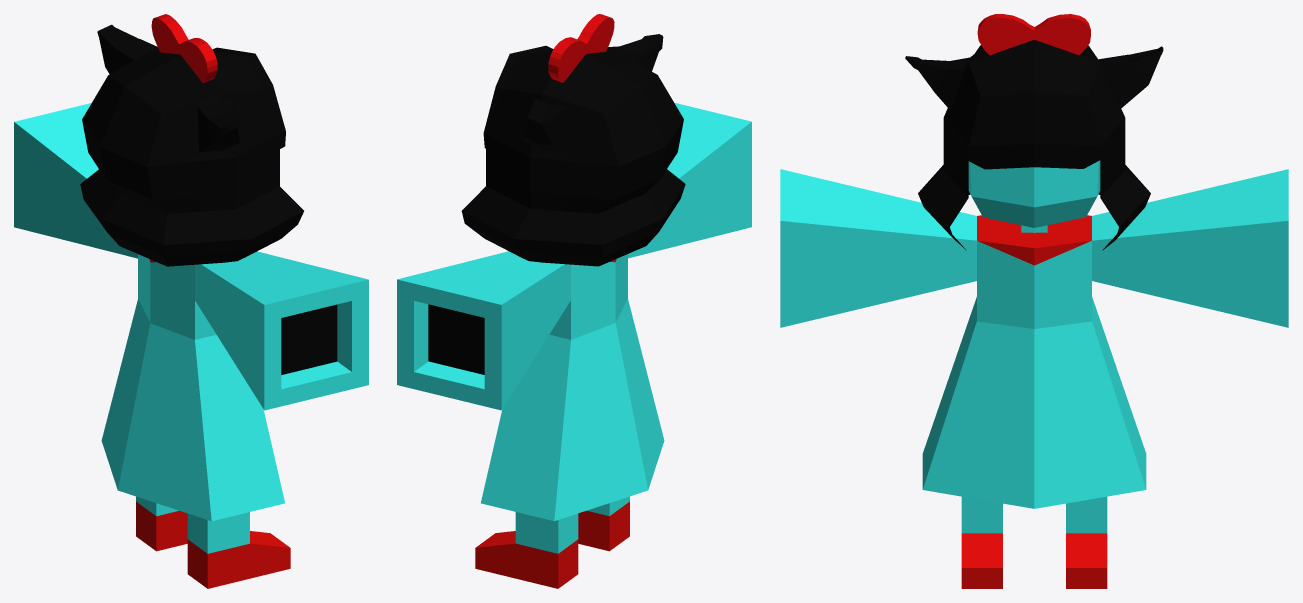
Rendered from Aqua.glb.
The picture shows the model from 3 angles, left to right: view 1: azimuth 30°, elevation 25°; view 2: azimuth 150°, elevation 25°; view 3: azimuth 270°, elevation 25°; orthographic projection.
Visible parts, largest first — view 1: Cube, Cube.003, Cube.001, Plane; view 2: Cube, Cube.003, Cube.001, Plane; view 3: Cube, Cube.003, Cube.001, Cube.002, Plane.
Part boxes in pixels (x1=…): Cube: x1=14, y1=103, x2=368, y2=521; Cube.003: x1=80, y1=24, x2=303, y2=266; Cube.001: x1=136, y1=496, x2=290, y2=588; Plane: x1=151, y1=14, x2=217, y2=83; Cube: x1=397, y1=102, x2=751, y2=521; Cube.003: x1=461, y1=34, x2=685, y2=266; Cube.001: x1=475, y1=496, x2=629, y2=588; Plane: x1=548, y1=14, x2=614, y2=82; Cube: x1=780, y1=169, x2=1288, y2=508; Cube.003: x1=905, y1=40, x2=1163, y2=250; Cube.001: x1=961, y1=496, x2=1107, y2=588; Cube.002: x1=968, y1=160, x2=1100, y2=227; Plane: x1=977, y1=14, x2=1090, y2=55.
Size of the model in its own units: 1.77 by 5.31 by 4.55.
